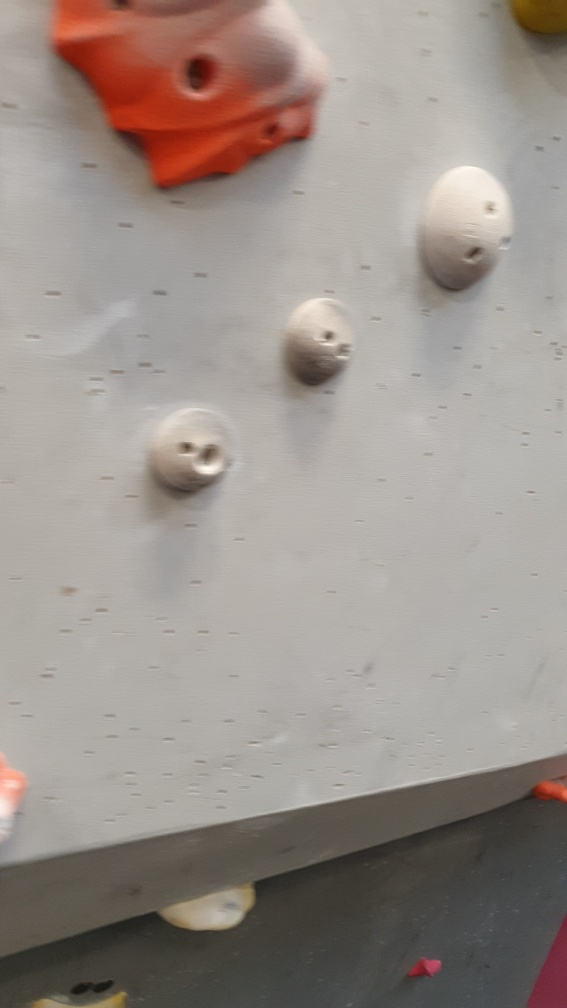Jug: (43, 1, 336, 193)
Sloper: (414, 160, 520, 300), (146, 402, 238, 496), (279, 291, 359, 390)
